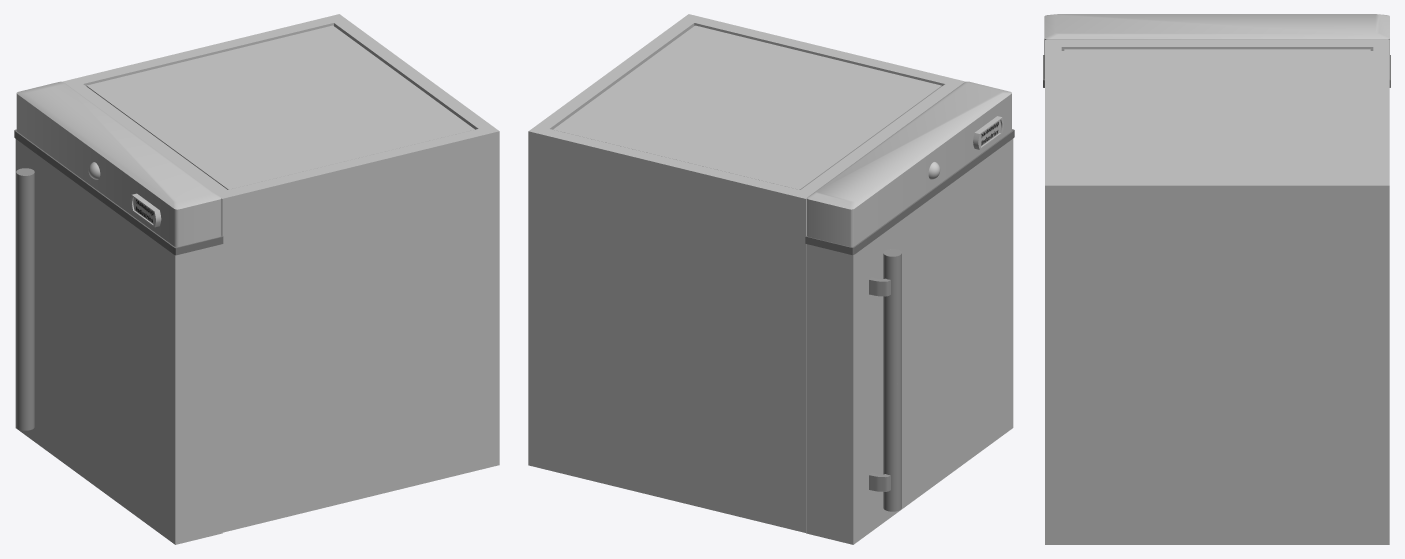
File: nevera2.fbx
3 renders of one model, left to right at view 1: azimuth 30°, elevation 25°; view 2: azimuth 150°, elevation 25°; view 3: azimuth 270°, elevation 25°, orthographic. The views are drawn at different scales.
Visible parts, largest first — view 1: nevera2; view 2: nevera2; view 3: nevera2.
Boxes of the visible parts, x1,y1,x2,y2 form: nevera2: (14, 14, 499, 544); nevera2: (528, 14, 1014, 544); nevera2: (1043, 14, 1390, 544).
Size of the model in its own units: 1509 by 1404 by 1217.
